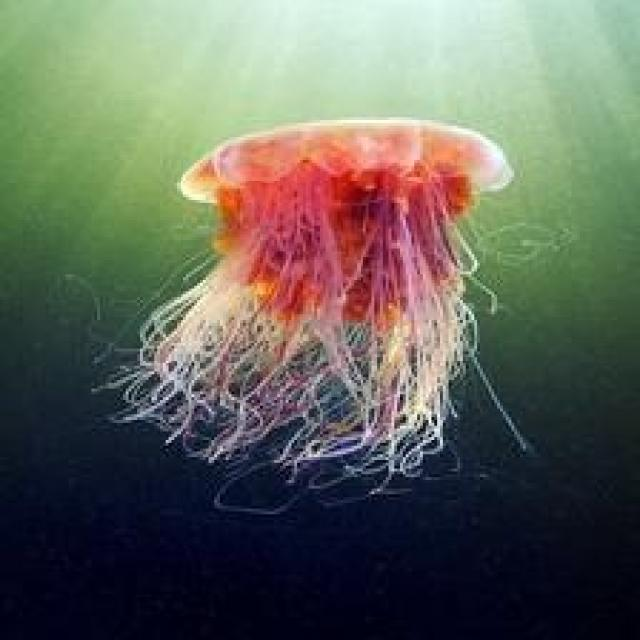Jellyfish: (89, 114, 534, 514)
